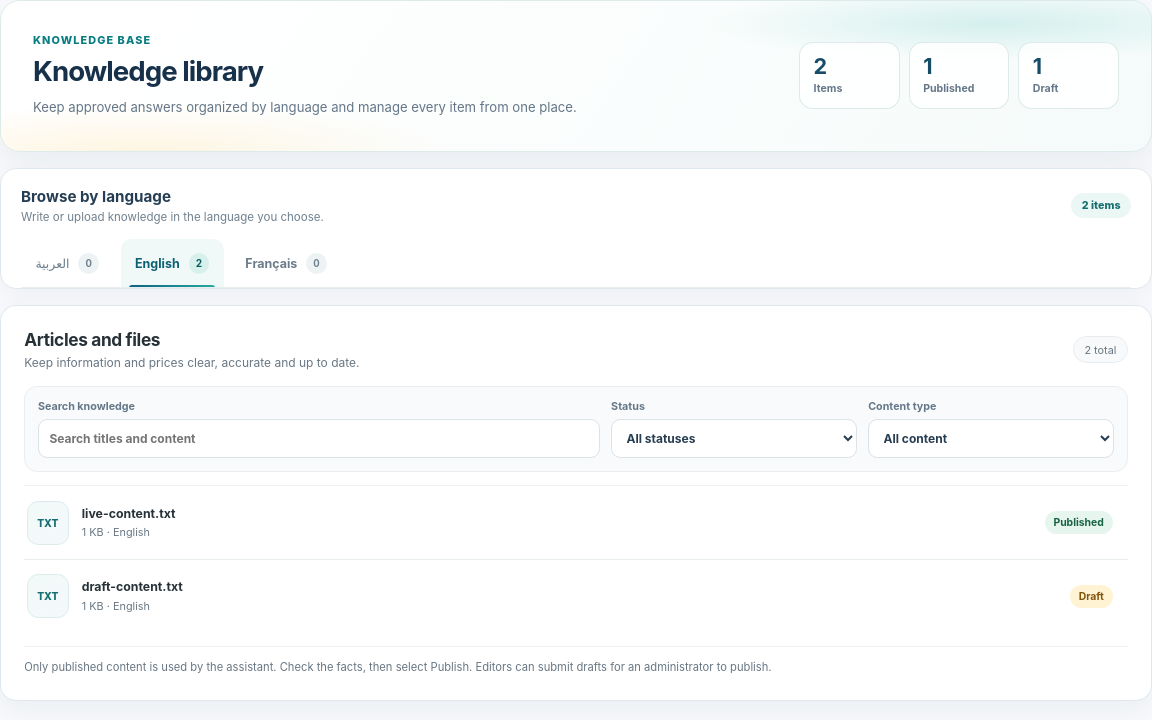
Test: knowledge language library › treats legacy ready documents as published in the status filter
The width and height of the screenshot is (1152, 720).
Select "Published" in the dropdown labelled "Status": (734, 438) [611,419,857,458]
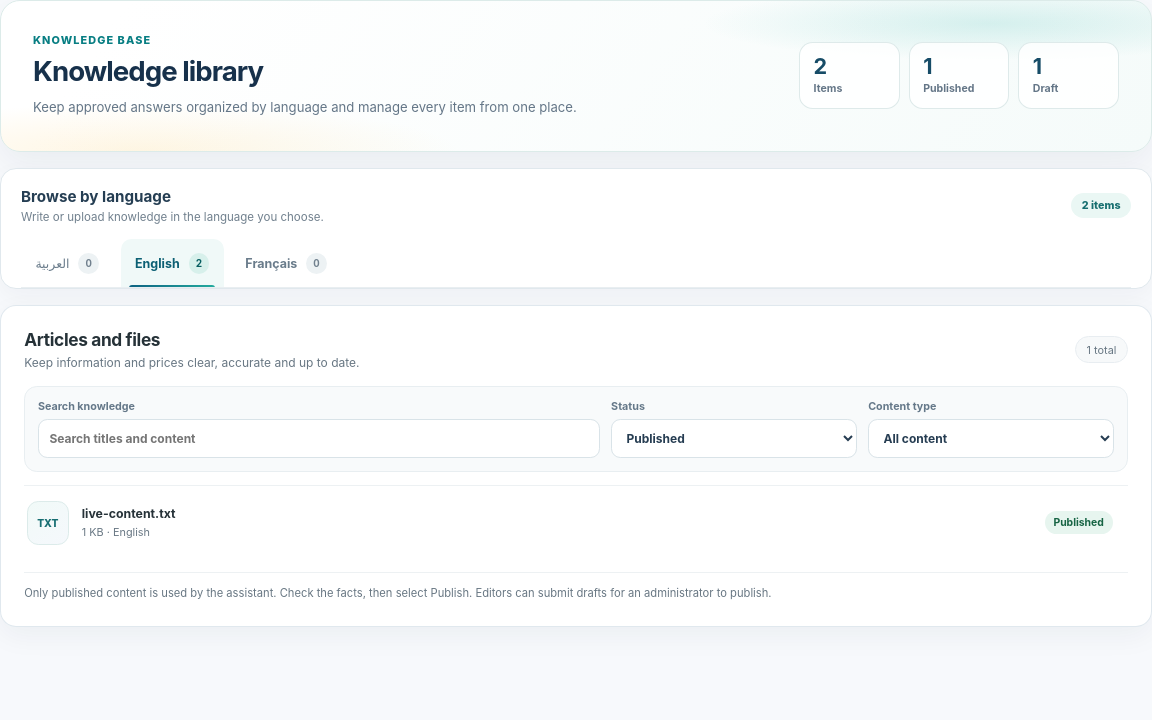
Expected: the text "live-content.txt" is shown, [82,506,176,521]
Now the text "draft-content.txt" is gone
